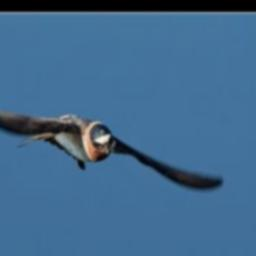Swallow: (0, 95, 226, 188)
